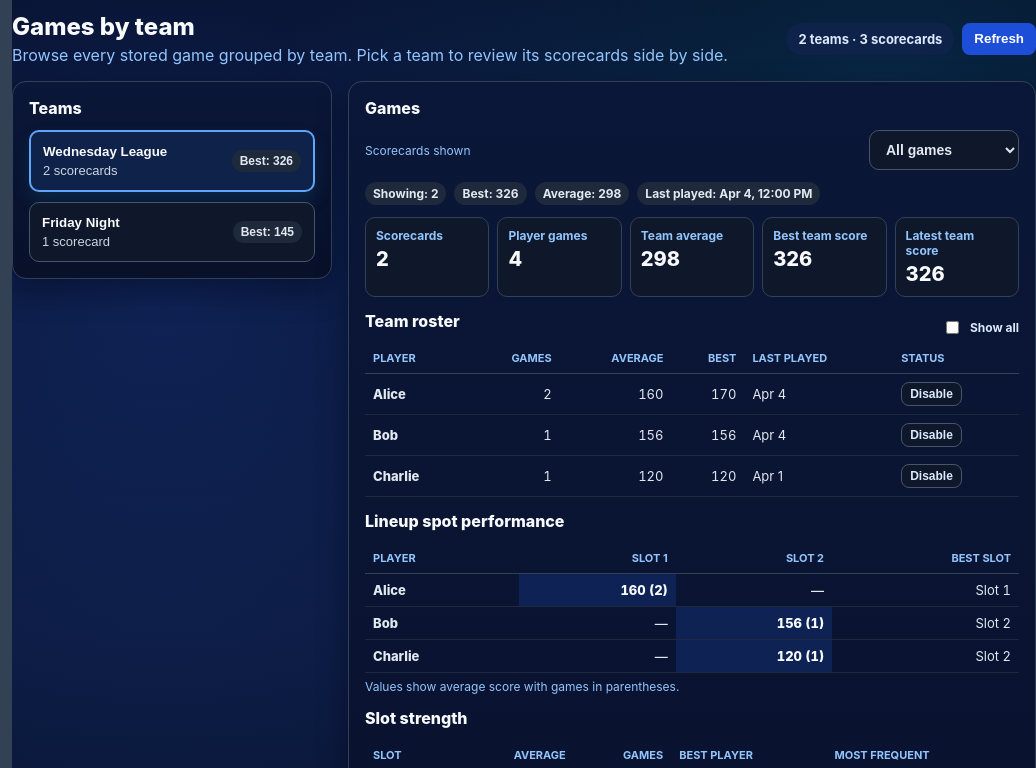
Test: PlayerGamesBrowser › can disable and re-enable players from the team roster
Expected: the text "Bob" below "Team roster" is shown, [373, 427, 398, 443]
Step 1. Right-click the row "Bob 1 156 156 Apr 4 Disable" → (692, 435), box [365, 414, 1019, 456]
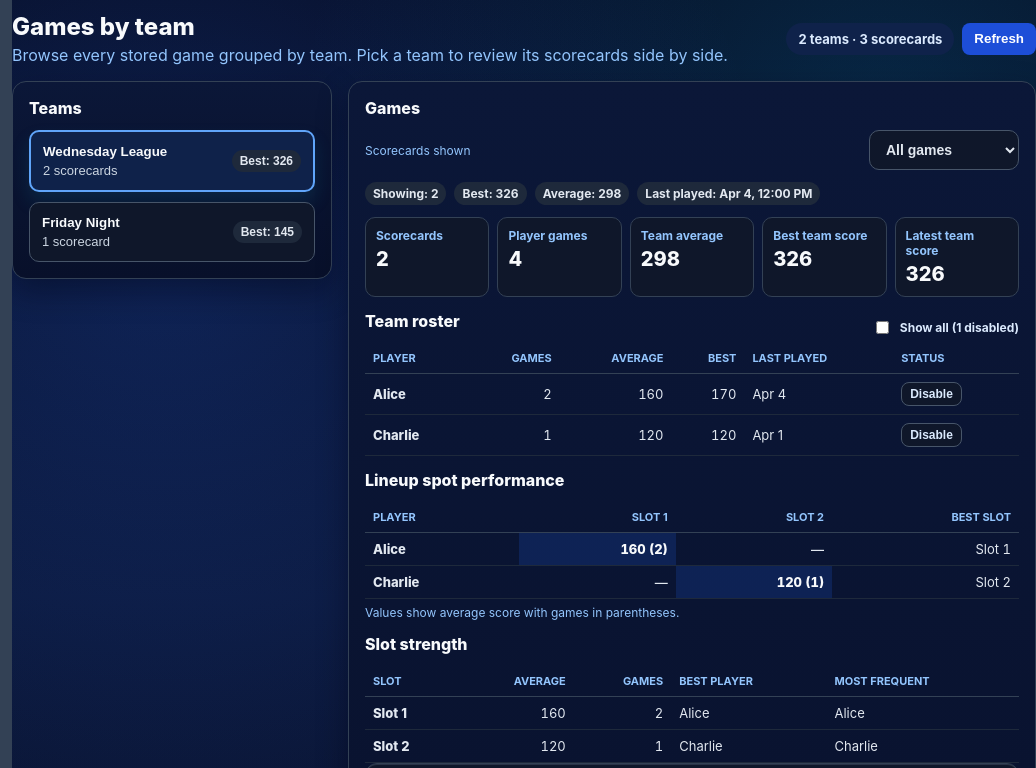
Expected: the text "Bob" is not shown
Expected: the text "Show all (1 disabled)" is shown, [872, 318, 1019, 336]
Step 2. Click the checkbox labelled "Show all (1 disabled)" → click(882, 327), box [876, 320, 889, 334]
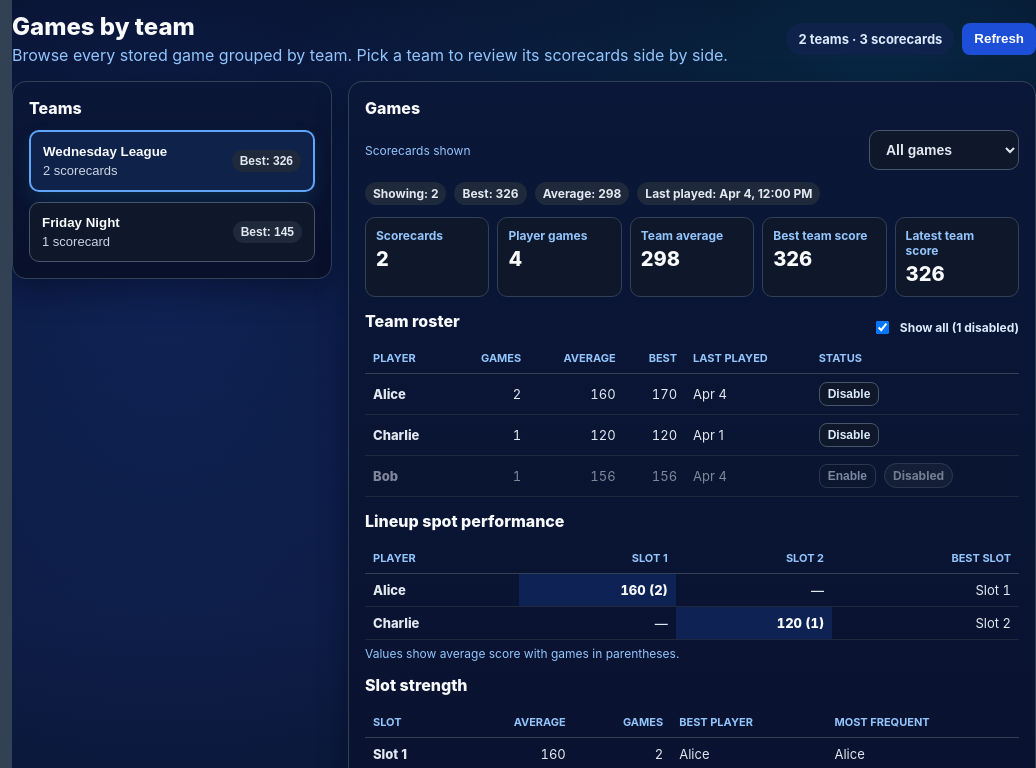
Expected: the row "Bob 1 156 156 Apr 4 Enable Disabled" is shown, [365, 456, 1019, 496]
Step 3. Click the button "Enable" → click(847, 476), box [819, 464, 876, 488]
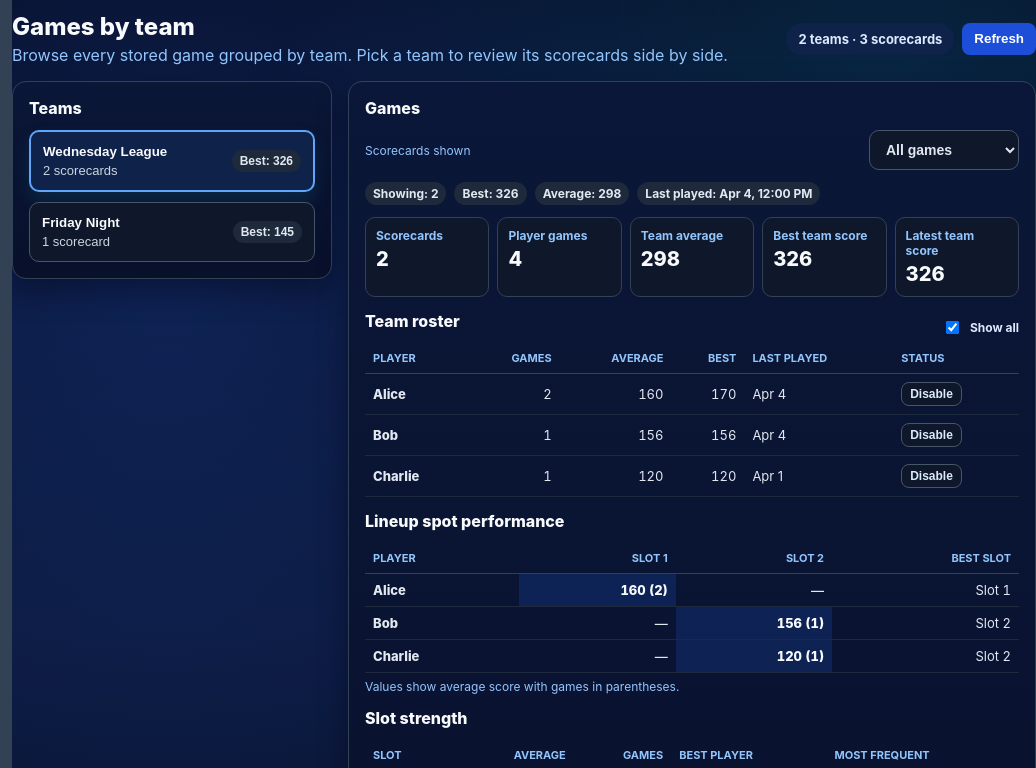
Expected: the row "Bob 1 156 156 Apr 4 Disable" is shown, [365, 414, 1019, 456]
Expected: the text "Show all (1 disabled)" is gone
